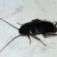cockroach: (19, 18, 56, 37)
